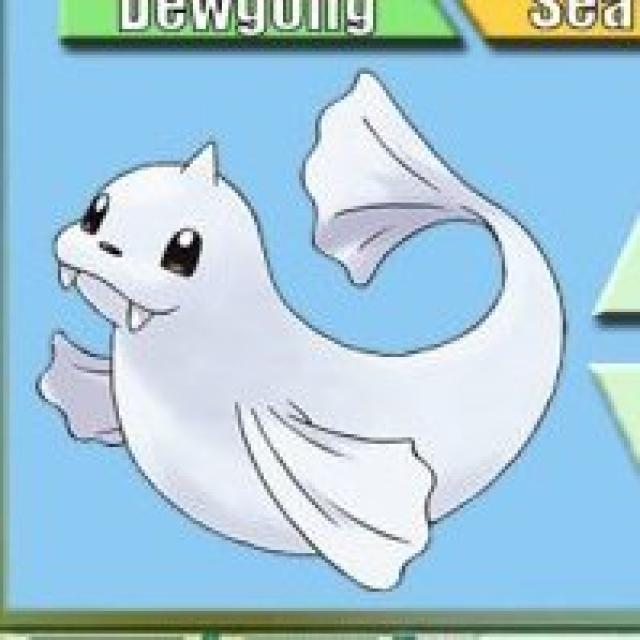Dewgong: (58, 74, 532, 558)
